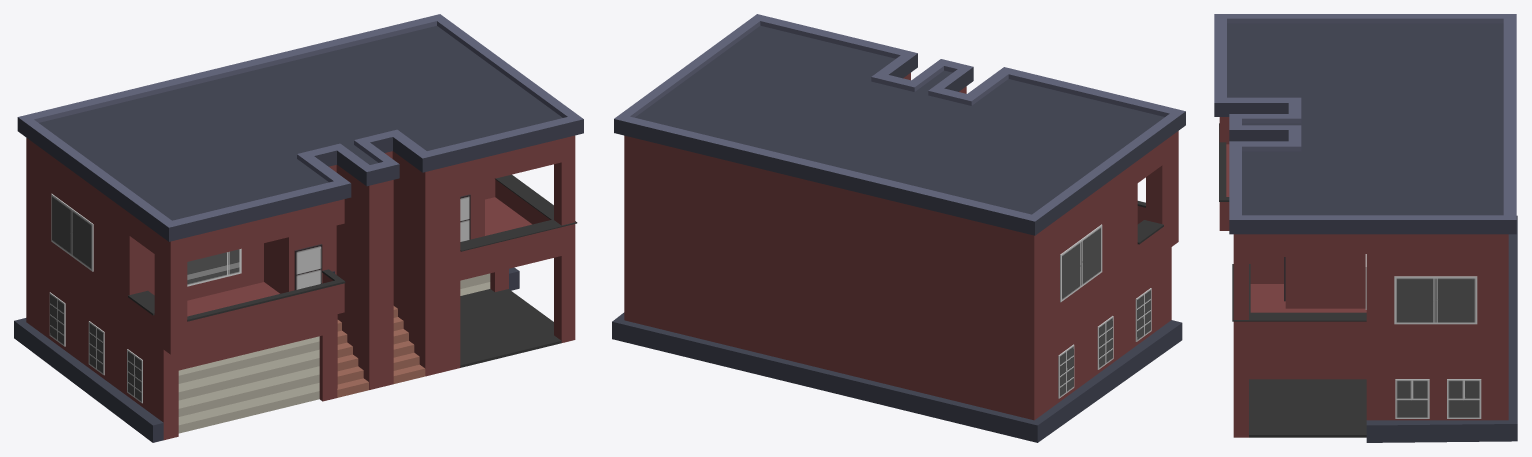
File: house07_color01.fbx
3 renders of one model, left to right at view 1: azimuth 30°, elevation 25°; view 2: azimuth 150°, elevation 25°; view 3: azimuth 270°, elevation 25°, orthographic.
Parts seen in each view (by area): view 1: House07 V1; view 2: House07 V1; view 3: House07 V1.
Boxes of the visible parts, bbox=[...] form: House07 V1: bbox=[14, 14, 583, 442]; House07 V1: bbox=[612, 14, 1185, 442]; House07 V1: bbox=[1214, 14, 1517, 442].
Size of the model in its own units: 2020 by 984 by 1226.
